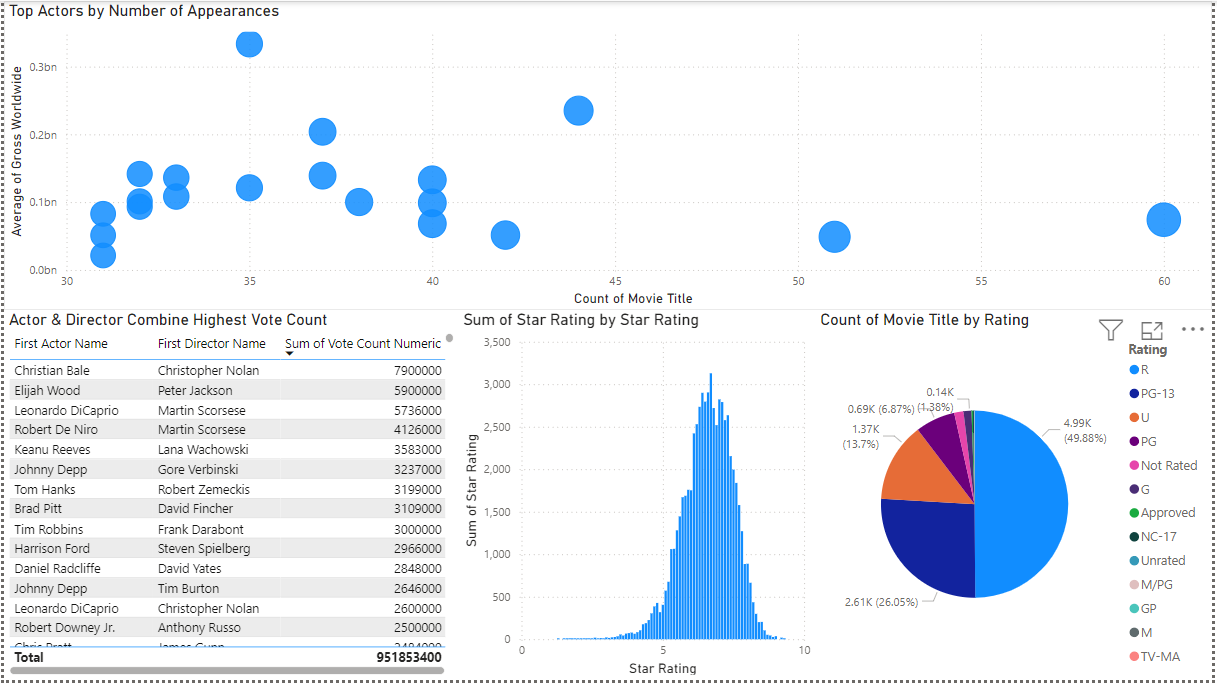

The dashboard page shown, as its layout file describes it:
{"tool":"powerbi","page":{"name":"Page 4","canvas":[1280,720],"ordinal":3},"visuals":[{"type":"tableEx","title":"Actor & Director Combine Highest Vote Count","fields":{"Values":["cleaned_data_imdb.First Actor Name","cleaned_data_imdb.First Director Name","cleaned_data_imdb.Vote Count Numeric"]},"box":[0,327.9,482,391.8],"z":0},{"type":"pieChart","fields":{"Category":["cleaned_data_imdb.Rating"],"Y":["cleaned_data_imdb.Movie Title"]},"box":[860.7,327.9,419.7,391.8],"z":1000},{"type":"scatterChart","title":"Top Actors by Number of Appearances","fields":{"X":["cleaned_data_imdb.Movie Title"],"Size":["cleaned_data_imdb.Movie Title"],"Category":["cleaned_data_imdb.First Actor Name"],"Y":["cleaned_data_imdb.Gross Worldwide"]},"box":[0,0,1280.3,327.9],"z":2000},{"type":"clusteredColumnChart","fields":{"Category":["cleaned_data_imdb.Star Rating"],"Y":["cleaned_data_imdb.Star Rating"]},"box":[482,327.9,378.7,391.8],"z":3000}]}

Visuals, with their boxes in screenshot pixels (x1, y1, x2, y2), scaled from the page's 1280x720 canvas onto the 1217x683 screenshot:
"Actor & Director Combine Highest Vote Count" tableEx: [0,311,458,682]
pieChart - cleaned_data_imdb.Rating x cleaned_data_imdb.Movie Title: [818,311,1216,682]
"Top Actors by Number of Appearances" scatterChart: [0,0,1216,311]
clusteredColumnChart - cleaned_data_imdb.Star Rating x cleaned_data_imdb.Star Rating: [458,311,818,682]
